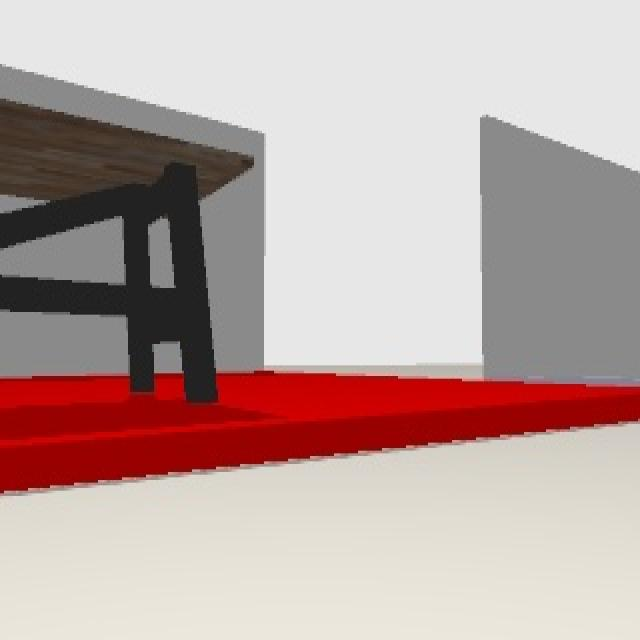dining: (3, 98, 255, 405)
